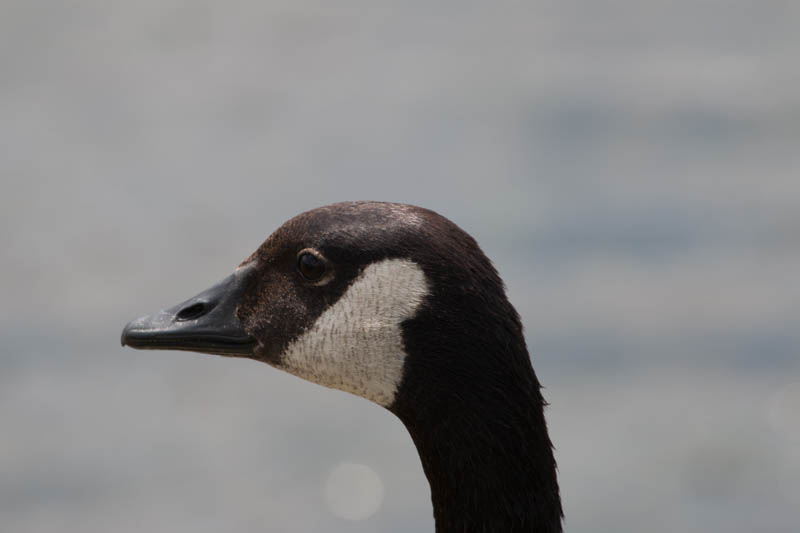goose-head: (121, 200, 543, 409)
